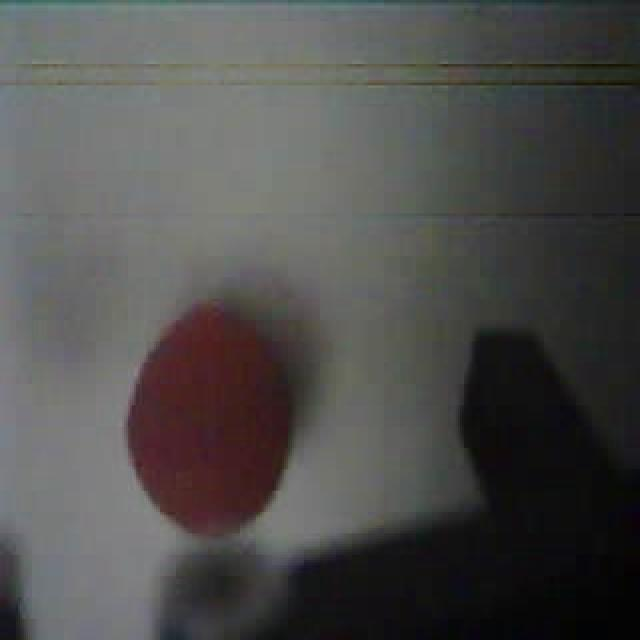red_ball: (124, 294, 296, 542)
